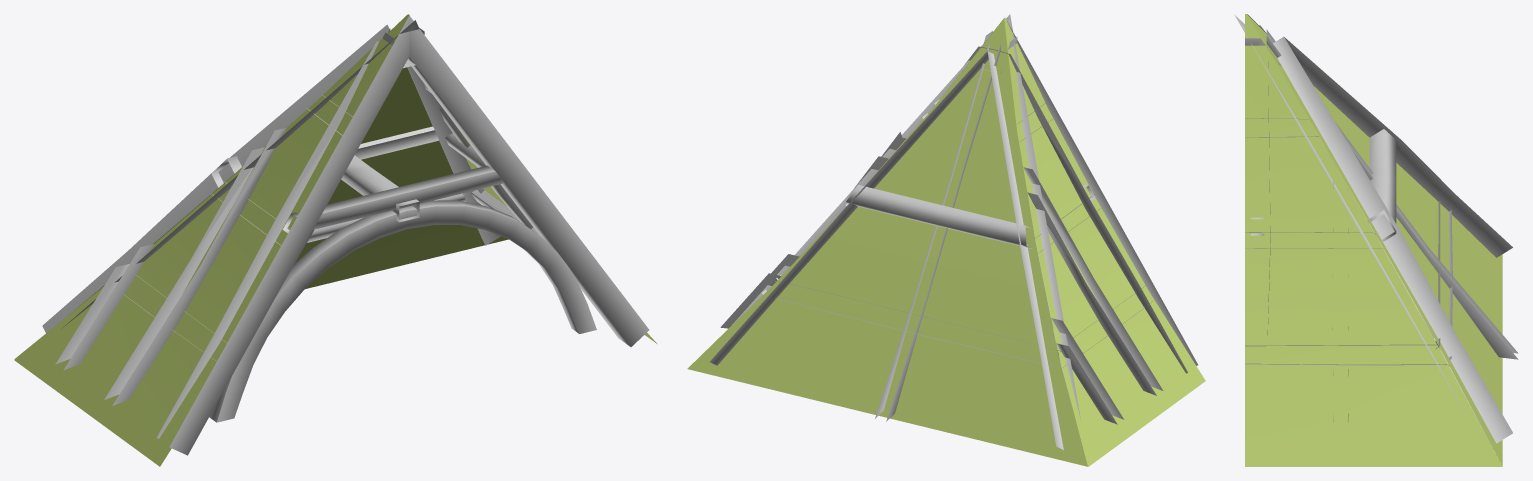
Rendered from roof_inside_small_end.fbx.
The picture shows the model from 3 angles, left to right: view 1: azimuth 30°, elevation 25°; view 2: azimuth 150°, elevation 25°; view 3: azimuth 270°, elevation 25°; orthographic projection. The views are drawn at different scales.
Parts seen in each view (by area): view 1: Cube.176; view 2: Cube.176; view 3: Cube.176.
Part boxes in pixels (bbox=[...]): Cube.176: bbox=[14, 14, 657, 466]; Cube.176: bbox=[687, 14, 1205, 466]; Cube.176: bbox=[1234, 14, 1518, 466].
Bounding box in the file's own units: 9.87 × 7.4 × 5.52.
